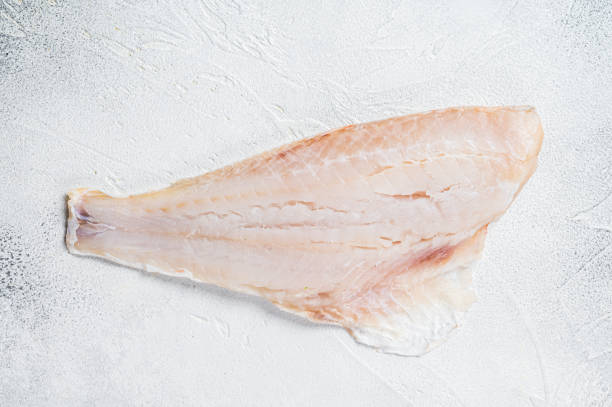bream-fish: (62, 105, 546, 357)
